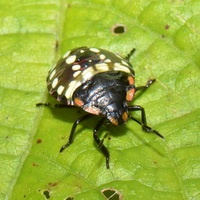insect: (46, 46, 163, 168)
